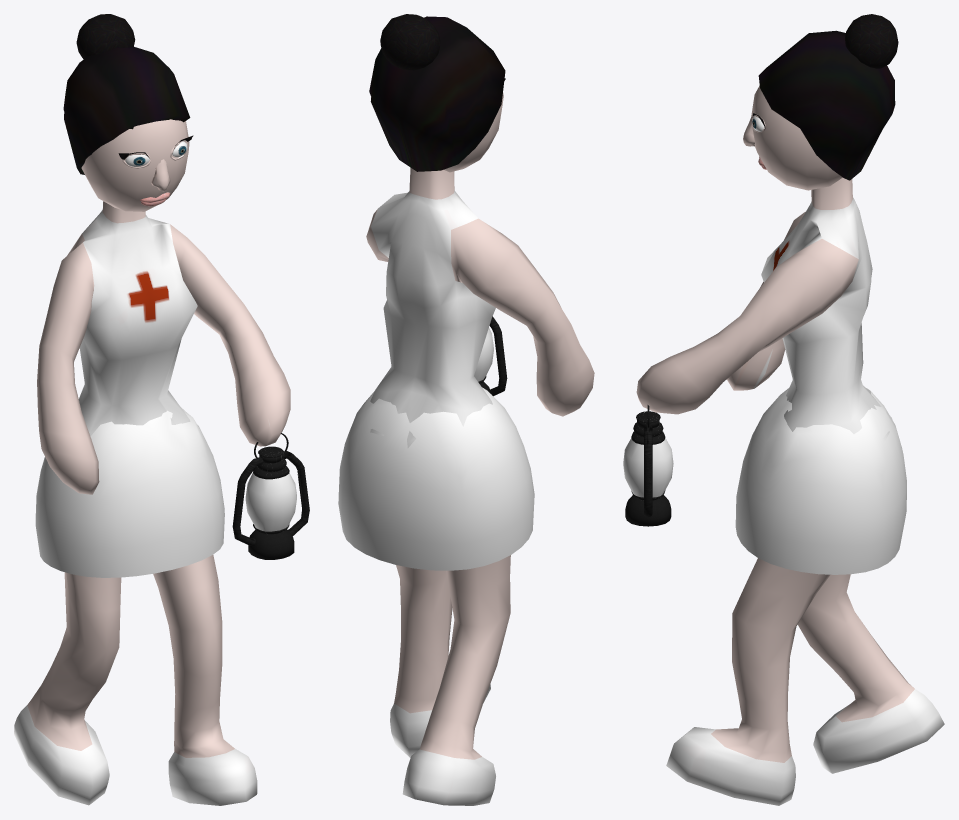
Rendered from walking_000002.obj.
The picture shows the model from 3 angles, left to right: view 1: azimuth 30°, elevation 25°; view 2: azimuth 150°, elevation 25°; view 3: azimuth 270°, elevation 25°; orthographic projection. The views are drawn at different scales.
Parts seen in each view (by area): view 1: Cube_Cube.001, Cube.001_Cube, Cube.004; view 2: Cube_Cube.001, Cube.001_Cube, Cube.004; view 3: Cube_Cube.001, Cube.001_Cube, Cube.004.
Part boxes in pixels (left/top/right/bottom): Cube_Cube.001: left=14, top=14, right=290, bottom=805; Cube.001_Cube: left=35, top=407, right=224, bottom=577; Cube.004: left=232, top=433, right=309, bottom=559; Cube_Cube.001: left=366, top=14, right=594, bottom=805; Cube.001_Cube: left=338, top=387, right=534, bottom=570; Cube.004: left=474, top=316, right=507, bottom=396; Cube_Cube.001: left=636, top=14, right=944, bottom=805; Cube.001_Cube: left=735, top=388, right=906, bottom=574; Cube.004: left=623, top=405, right=673, bottom=526.
Bounding box in the file's own units: 0.6008 × 2.09 × 0.7925.
